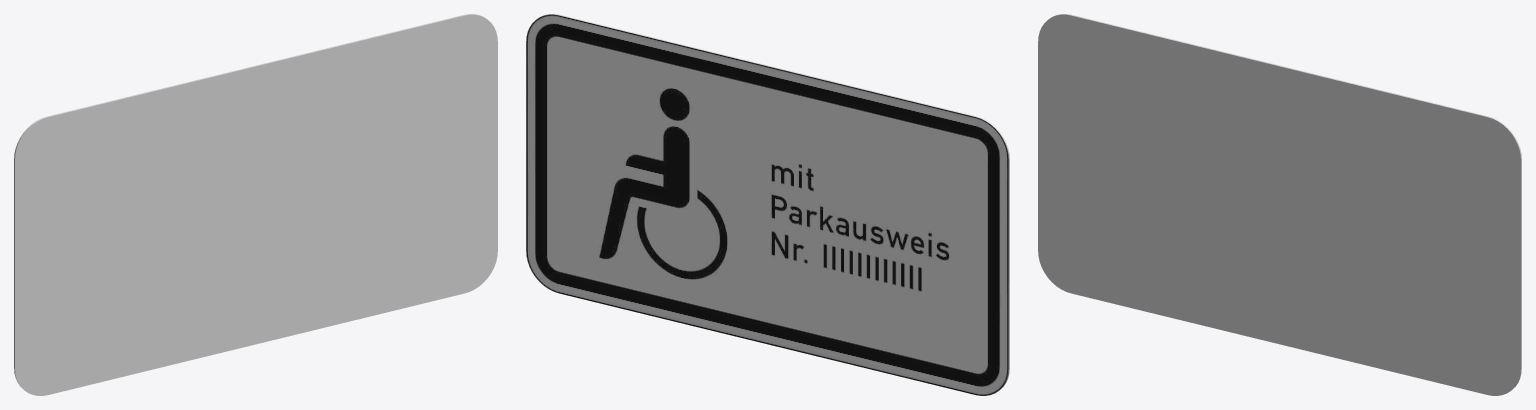
3 views of the same model, side by side, from view 1: azimuth 30°, elevation 25°; view 2: azimuth 150°, elevation 25°; view 3: azimuth 330°, elevation 25° (orthographic).
Parts seen in each view (by area): view 1: Plane; view 2: Plane; view 3: Plane.
Part boxes in pixels (<box>): Plane: <box>14,14,497,395</box>; Plane: <box>526,14,1009,395</box>; Plane: <box>1038,14,1521,395</box>.
Bounding box in the file's own units: 0.6 × 0.33 × 0.002.
2 materials, 1 textured.
